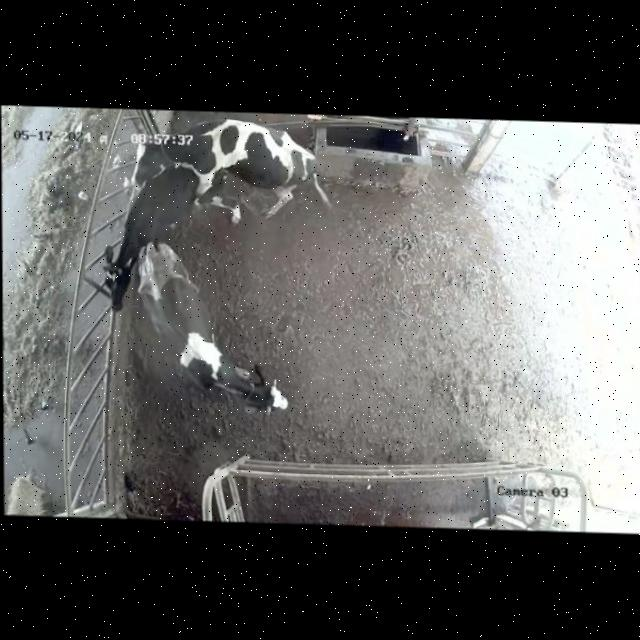ride: (122, 122, 324, 232)
stand: (127, 238, 288, 426), (104, 167, 217, 312)
